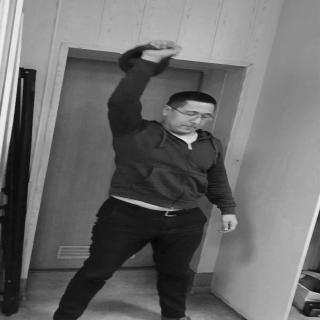kettlebell: (121, 44, 176, 79)
